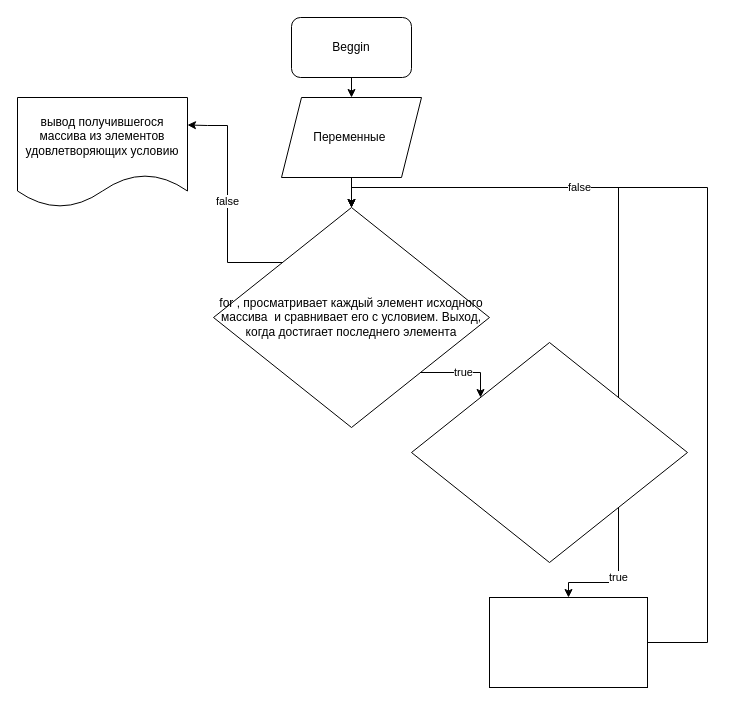
This 733x705 diagram has some shape labels left out. The shapes that lost their labels are listed below. From the top down, each one's centre as x and y in pixels, then its label:
pixel 549 452: if, условие, с которым сравнивается элемент
pixel 568 642: Во второй массив записывается элемент удовлетворяющий условию
